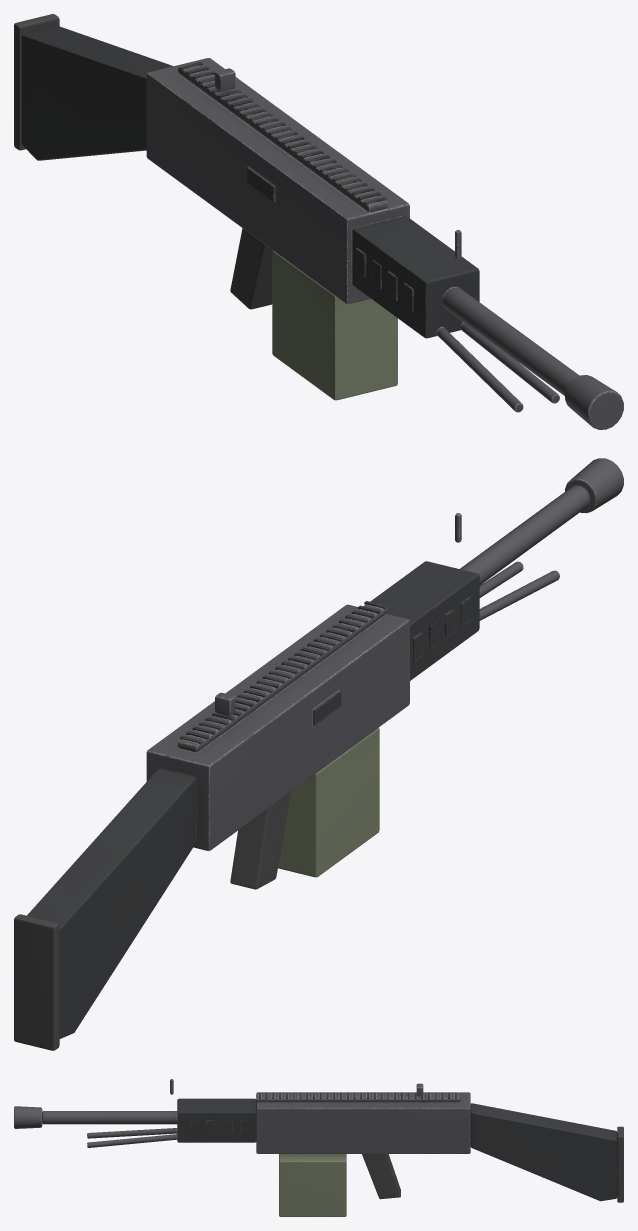
3 renders of one model, top to bottom at view 1: azimuth 30°, elevation 25°; view 2: azimuth 150°, elevation 25°; view 3: azimuth 270°, elevation 25°, orthographic. The views are drawn at different scales.
Parts seen in each view (by area): view 1: m249; view 2: m249; view 3: m249.
Part boxes in pixels (box(x1,y1,x2,y2)): m249: box(14, 14, 623, 429); m249: box(14, 458, 623, 1050); m249: box(14, 1079, 623, 1216).
Size of the model in its own units: 0.082 by 0.2497 by 1.08.
